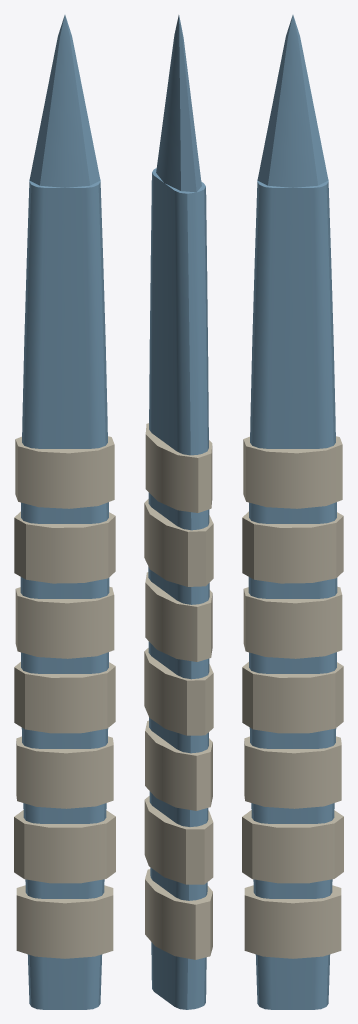
Rendered from wpn_melee_prison_shank.glb.
3 views of the same model, side by side, from view 1: azimuth 90°, elevation 25°; view 2: azimuth 210°, elevation 25°; view 3: azimuth 270°, elevation 25° (orthographic).
Parts seen in each view (by area): view 1: Grip, Handle, Head; view 2: Grip, Handle, Head; view 3: Grip, Handle, Head.
Part boxes in pixels (x1=…): Grip: x1=14, y1=436, x2=115, y2=958; Handle: x1=20, y1=180, x2=109, y2=1009; Head: x1=29, y1=15, x2=100, y2=187; Grip: x1=144, y1=423, x2=213, y2=959; Handle: x1=148, y1=168, x2=209, y2=1009; Head: x1=156, y1=15, x2=201, y2=192; Grip: x1=242, y1=436, x2=343, y2=958; Handle: x1=248, y1=180, x2=337, y2=1009; Head: x1=257, y1=15, x2=328, y2=187.
Size of the model in its own units: 0.009 by 0.178 by 0.0166.
